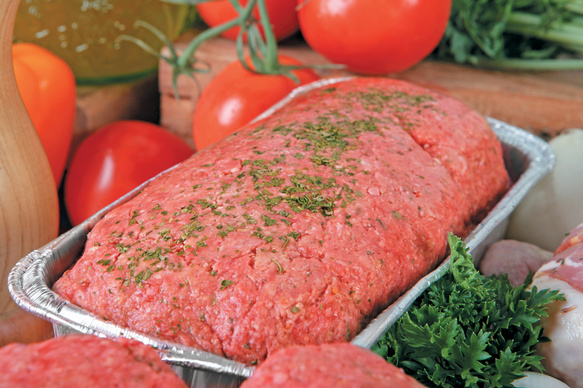ground_beef: (102, 66, 431, 306), (1, 272, 218, 388), (194, 279, 380, 388)
